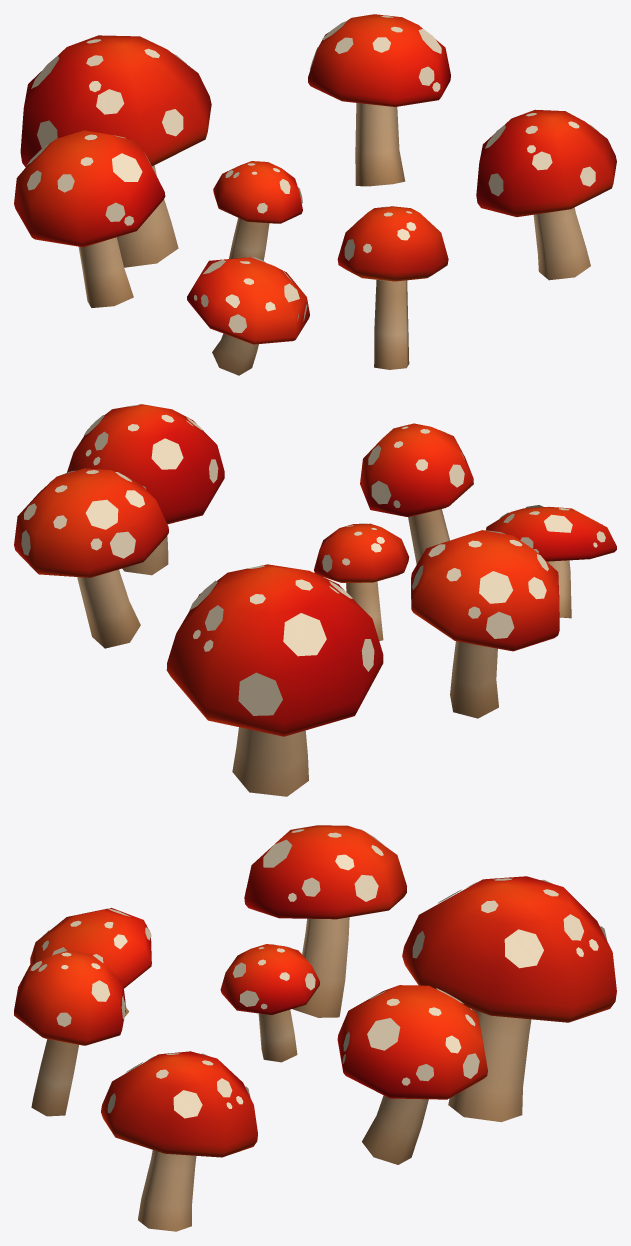
File: SM_Plant_AmanitaMushroom_Lv1.fbx
3 views of the same model, one above another, from view 1: azimuth 30°, elevation 25°; view 2: azimuth 150°, elevation 25°; view 3: azimuth 270°, elevation 25° (orthographic). The views are drawn at different scales.
Visible parts, largest first — view 1: SM_Plant_AmanitaMushroom_Lv1; view 2: SM_Plant_AmanitaMushroom_Lv1; view 3: SM_Plant_AmanitaMushroom_Lv1.
Boxes of the visible parts, x1=… form: SM_Plant_AmanitaMushroom_Lv1: x1=14, y1=14, x2=616, y2=375; SM_Plant_AmanitaMushroom_Lv1: x1=14, y1=404, x2=616, y2=796; SM_Plant_AmanitaMushroom_Lv1: x1=14, y1=825, x2=616, y2=1231.
Size of the model in its own units: 52.99 by 20.66 by 50.02.
